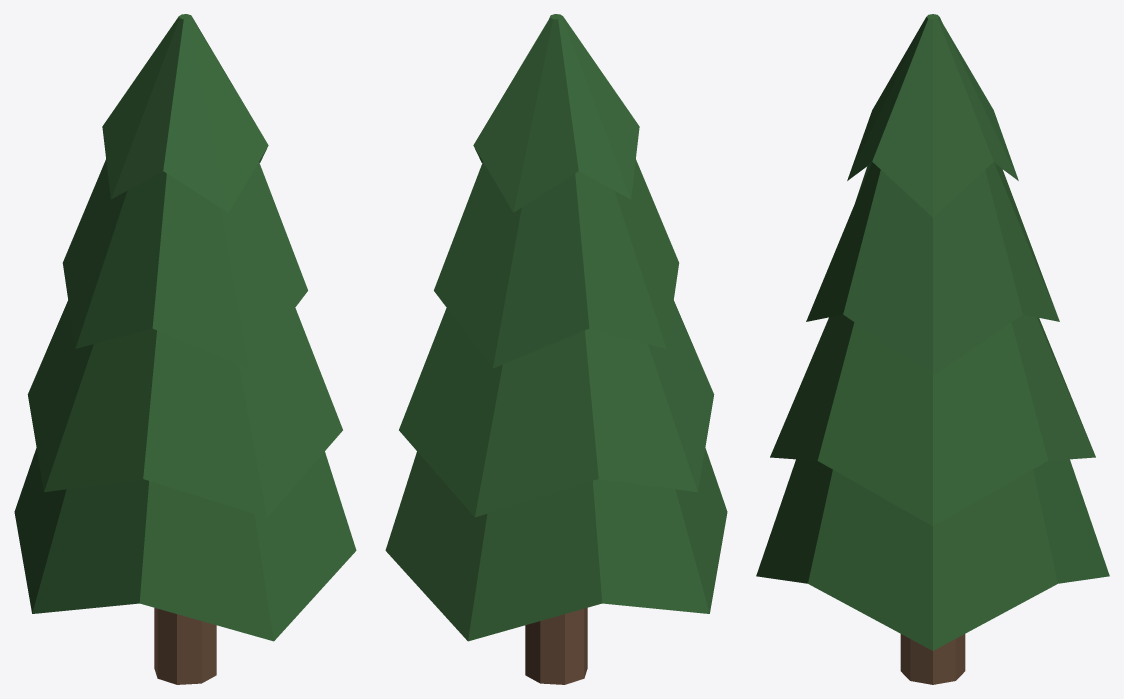
The model's file is Tree4.fbx.
3 renders of one model, left to right at view 1: azimuth 30°, elevation 25°; view 2: azimuth 150°, elevation 25°; view 3: azimuth 270°, elevation 25°, orthographic.
Visible parts, largest first — view 1: Circle.008; view 2: Circle.008; view 3: Circle.008.
Part boxes in pixels (<box>): Circle.008: <box>14,14,356,684</box>; Circle.008: <box>385,14,727,684</box>; Circle.008: <box>756,14,1109,684</box>.
Bounding box in the file's own units: 499 × 1019 × 499.
